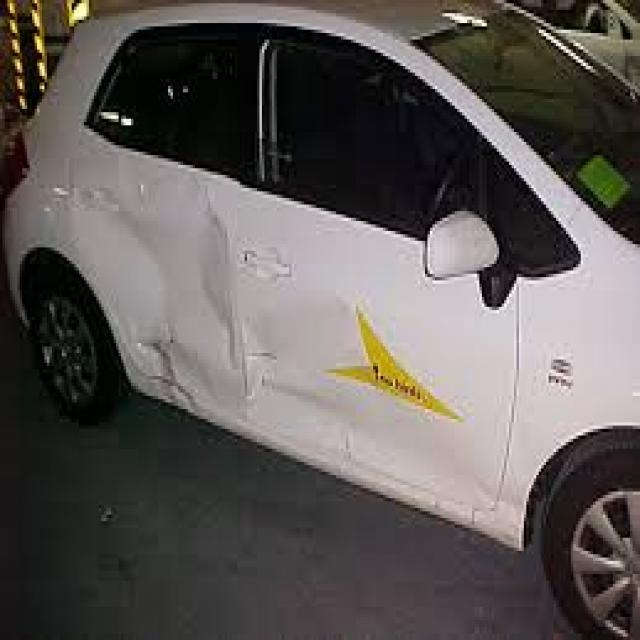minor: (78, 138, 290, 428)
